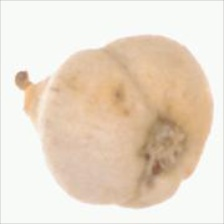L3: (12, 69, 42, 116)
L4: (14, 36, 214, 210)
